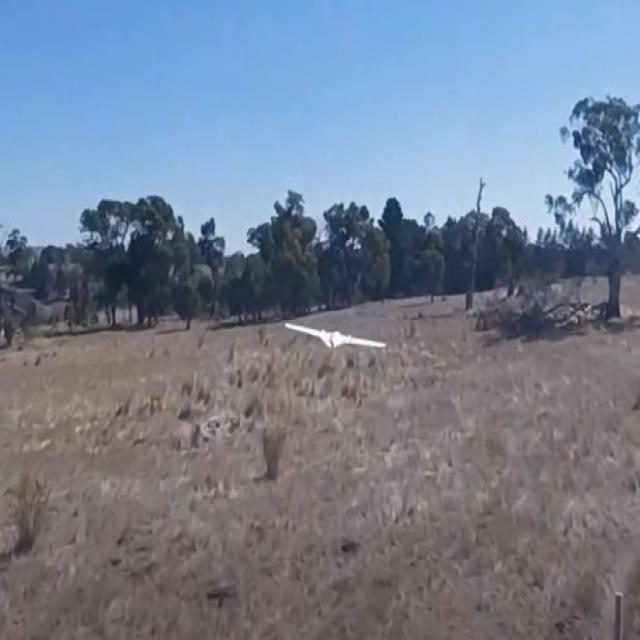iha: (316, 321, 356, 352)
